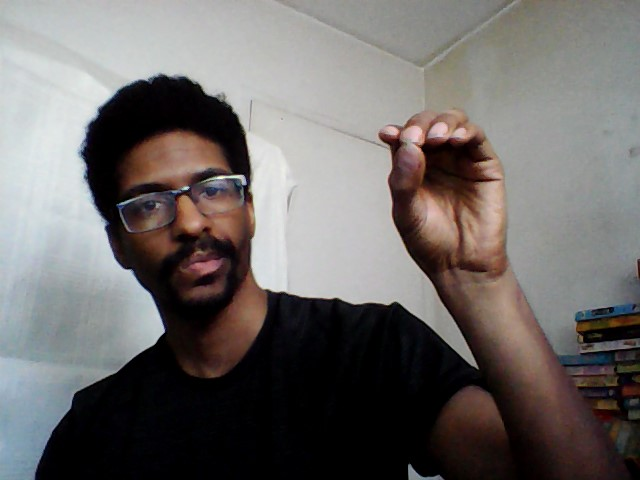o: (372, 104, 510, 274)
